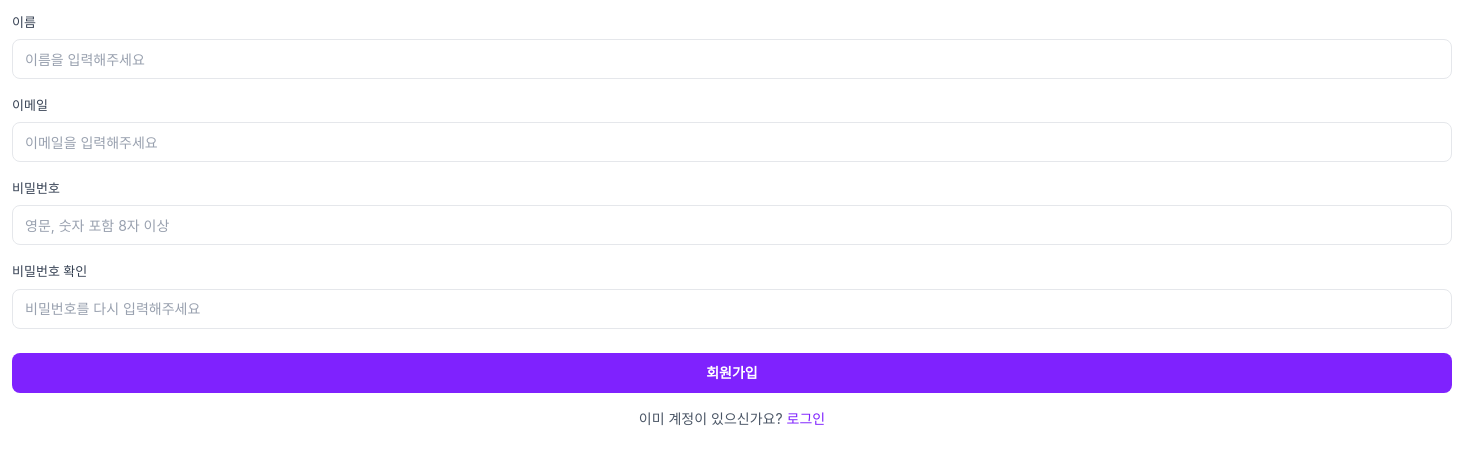
Test: SignupForm › 비밀번호가 8자 미만이면 에러 메시지가 표시된다
This screenshot has width=1464, height=469.
In the password field labelled "비밀번호": {"x": 732, "y": 225} [12, 205, 1452, 245], type "abc1"
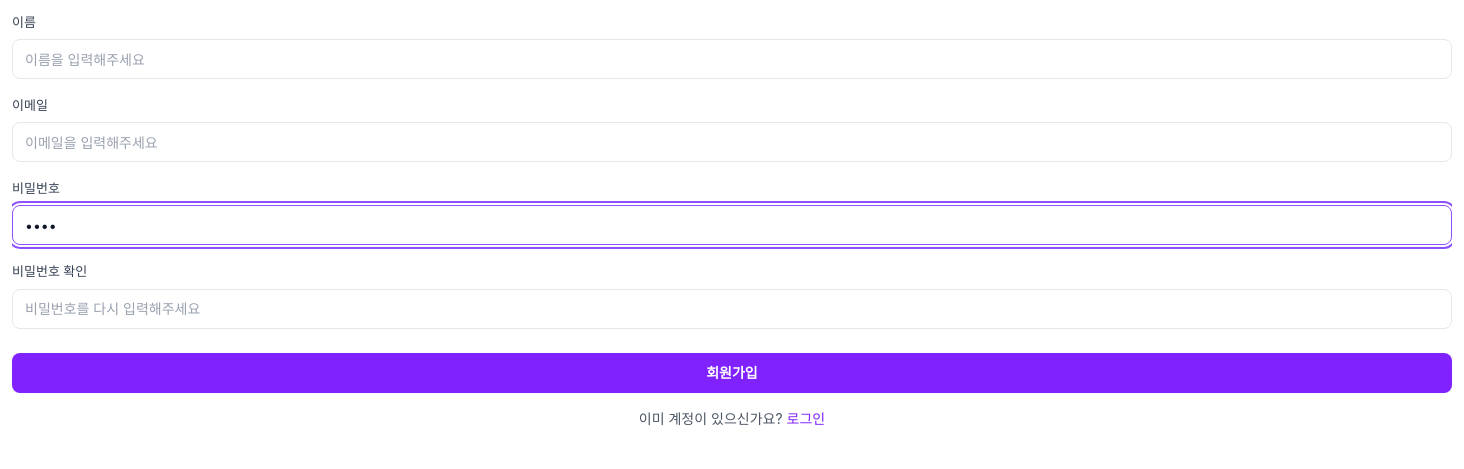
Press Tab
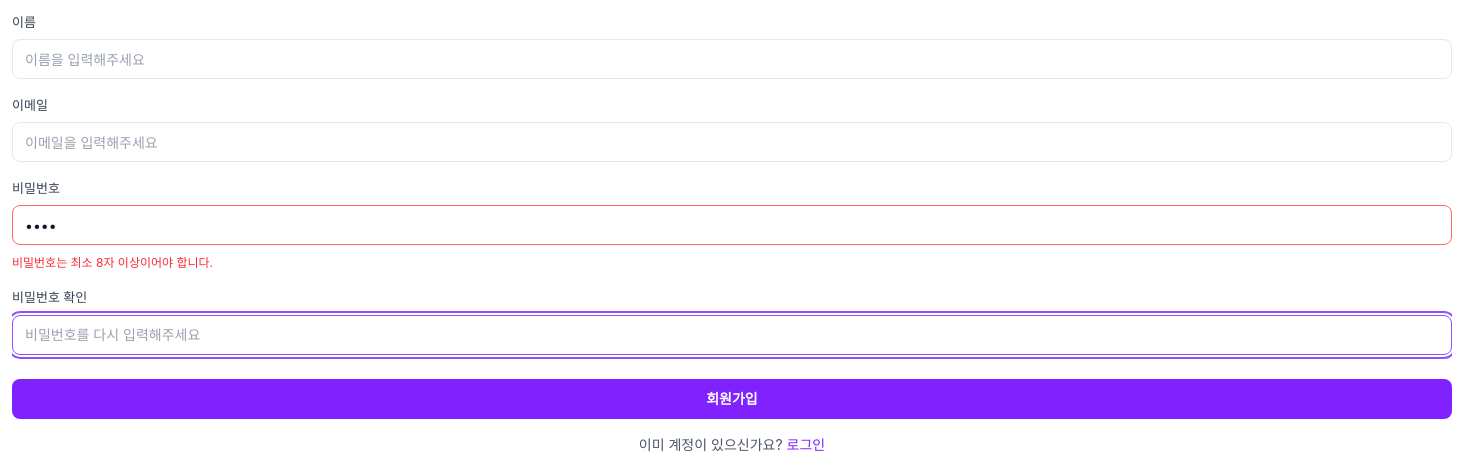
Result: the text "비밀번호는 최소 8자 이상이어야 합니다." is shown at [12, 255, 213, 270]
